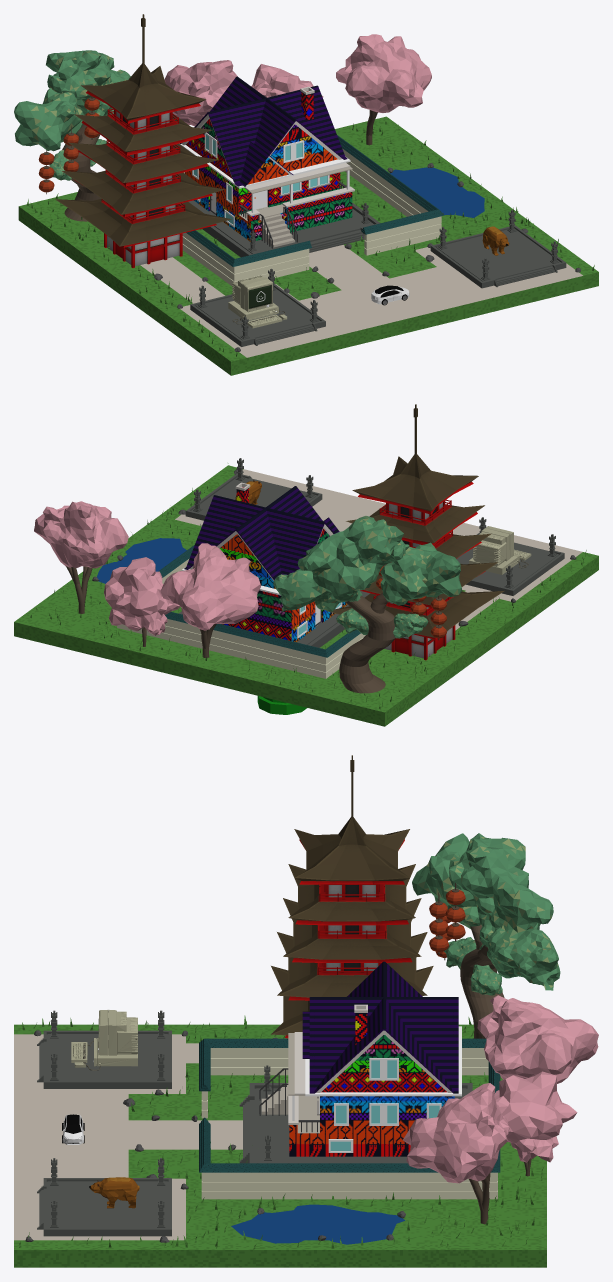
3 views of the same model, one above another, from view 1: azimuth 30°, elevation 25°; view 2: azimuth 150°, elevation 25°; view 3: azimuth 270°, elevation 25° (orthographic). The views are drawn at different scales.
Visible parts, largest first — view 1: Cube.005, Cube.966, OBJRANDOM_RETRO_PC, VEHICLES_TESLA, ANIMAL_OSO; view 2: Cube.005, Cube.966, OBJRANDOM_RETRO_PC, UNDERGROUND_PIPES; view 3: Cube.005, Cube.966, OBJRANDOM_RETRO_PC, ANIMAL_OSO.
Part boxes in pixels (box(x1,y1,x2,y2)): Cube.005: box(14, 14, 598, 375); Cube.966: box(179, 76, 354, 248); OBJRANDOM_RETRO_PC: box(228, 275, 287, 328); VEHICLES_TESLA: box(371, 285, 409, 305); ANIMAL_OSO: box(482, 226, 509, 255); Cube.005: box(14, 404, 598, 726); Cube.966: box(181, 482, 347, 642); OBJRANDOM_RETRO_PC: box(469, 526, 531, 574); UNDERGROUND_PIPES: box(257, 696, 306, 714); Cube.005: box(14, 755, 598, 1267); Cube.966: box(259, 961, 461, 1156); OBJRANDOM_RETRO_PC: box(71, 1010, 137, 1070); ANIMAL_OSO: box(89, 1177, 139, 1208).
Bounding box in the file's own units: 4528 × 3273 × 4389.
42 materials, 9 textured.
